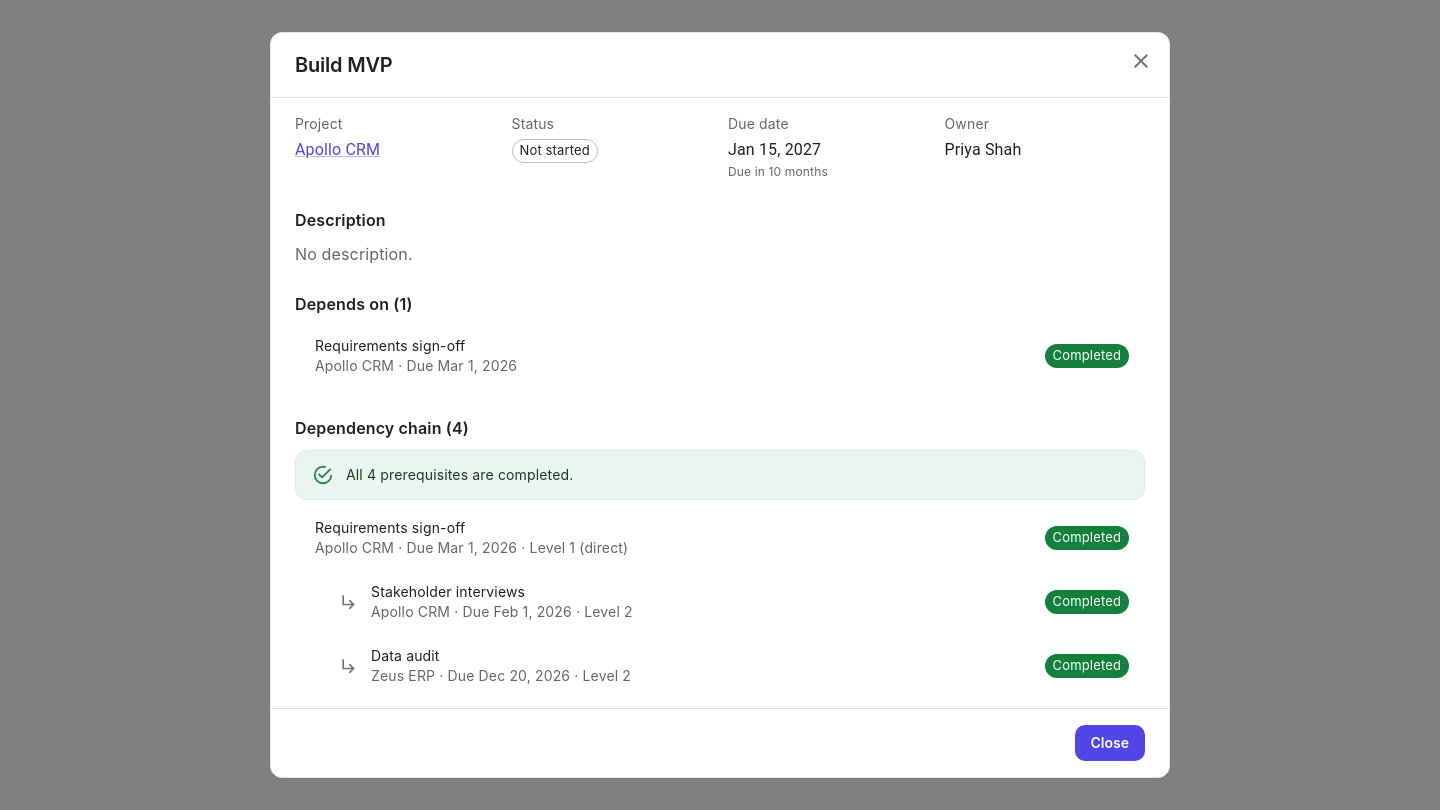
DeliverableDetailsDialog › confirms when every prerequisite is completed
The width and height of the screenshot is (1440, 810).
Expected: the text "All 4 prerequisites are completed." is shown, [346,466,573,483]
Expected: the text "Blocker" is not shown
Click the button "Requirements sign-off Apollo CRM · Due Mar 1, 2026 Completed".
click(390, 345)  # box [295,326,1145,386]
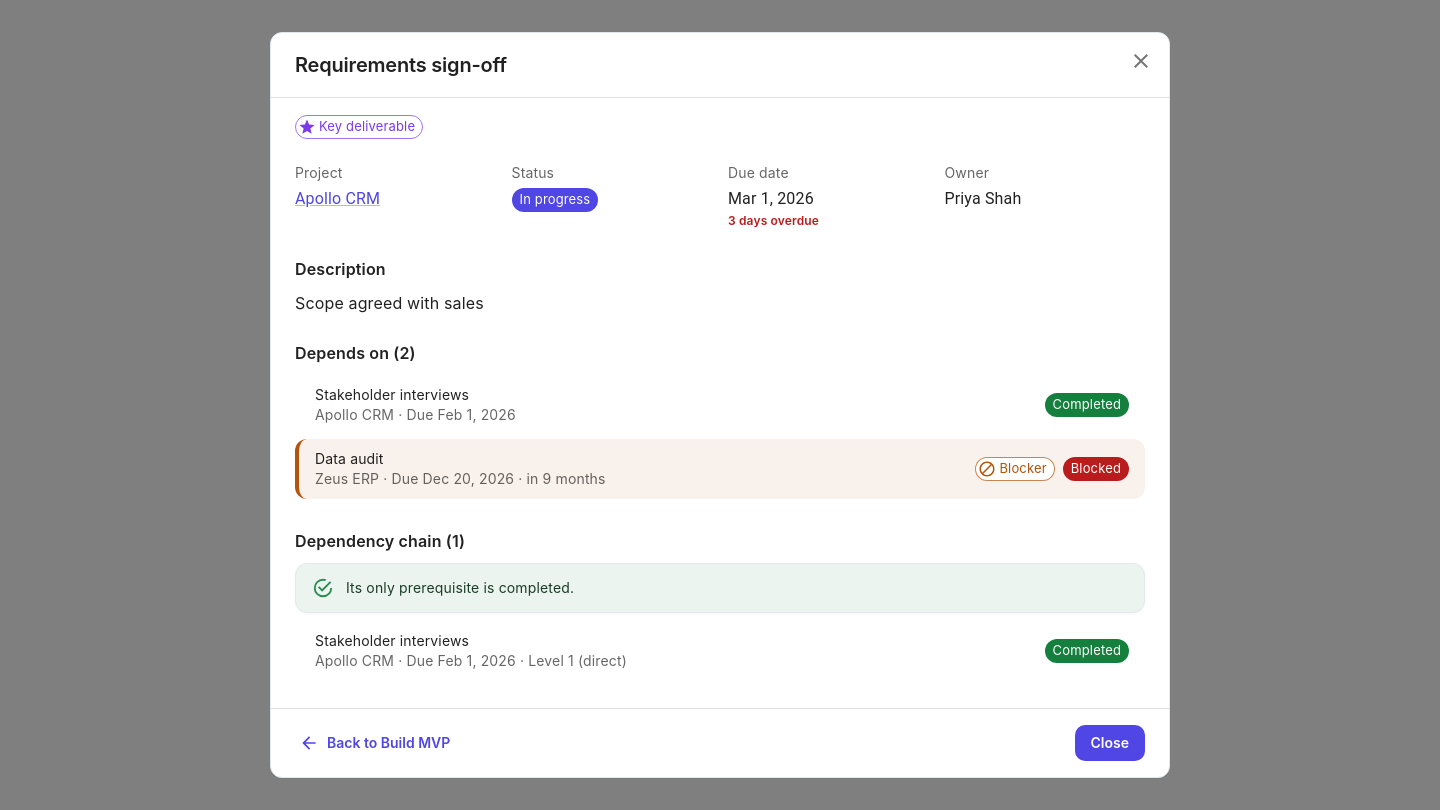
Expected: the text "Its only prerequisite is completed." is shown, [346,579,574,596]
